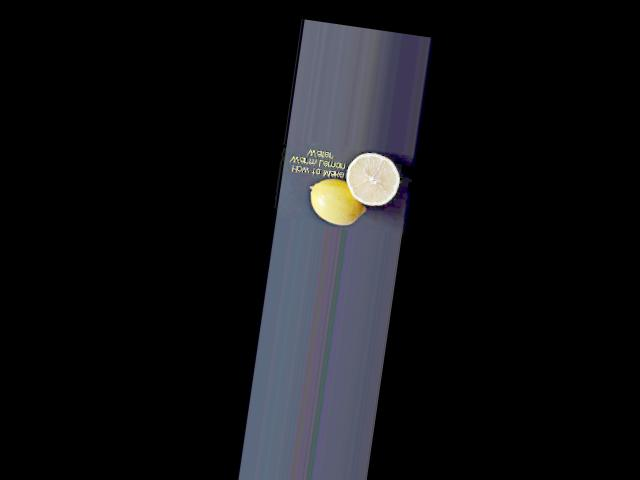lemon: (303, 178, 367, 229)
